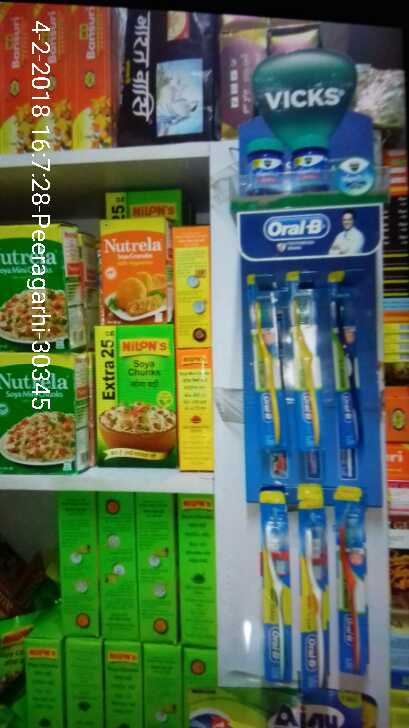pharmacy: (331, 485, 374, 672), (246, 274, 290, 448), (328, 269, 367, 453), (296, 482, 331, 687), (258, 486, 294, 683), (291, 272, 327, 451), (243, 134, 288, 195), (286, 132, 331, 190)
